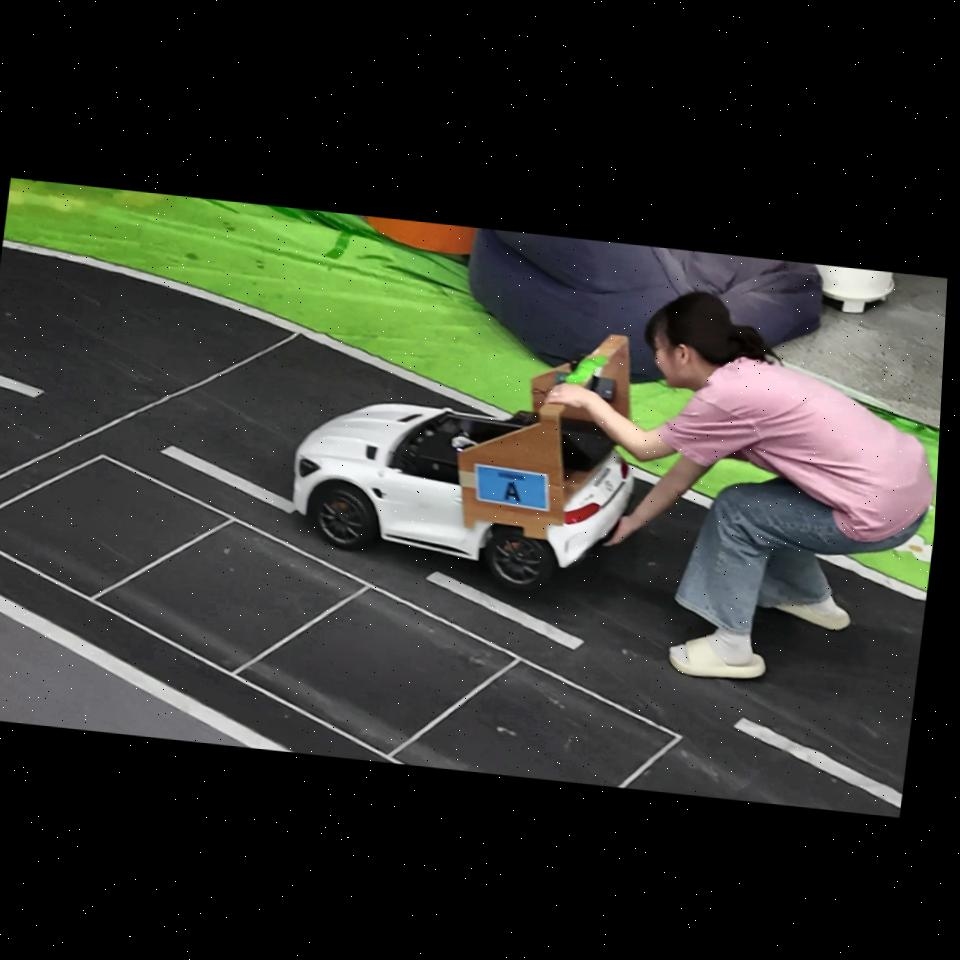broken_line: (734, 718, 902, 808), (427, 572, 583, 649), (161, 446, 297, 513), (0, 376, 44, 397)
